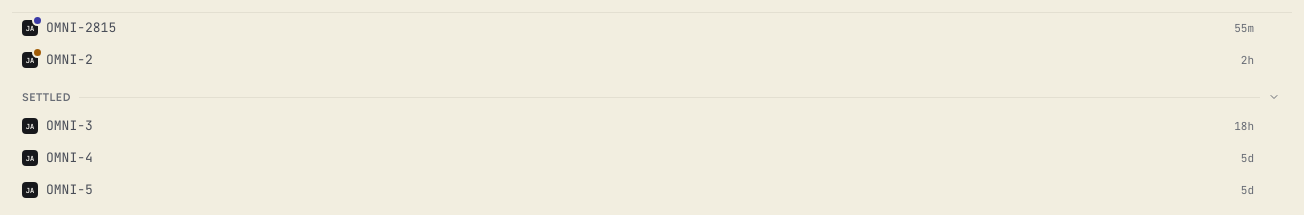
Test case: the sessions list › the hover card › moves to the next row with no wait while a card is open
The image size is (1304, 215).
Hover over the button "JA OMNI-2815 55m" at (81, 27), box [12, 13, 1266, 43]
Wait 120 ms
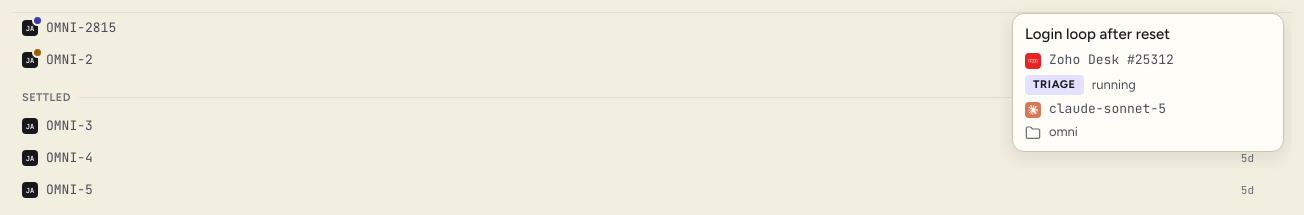
Check: the text with class "sd-session-card__title" reads "Login loop after reset", box [1025, 25, 1170, 43]
Hover over the button "JA OMNI-2 2h" at (69, 59), box [12, 45, 1266, 75]
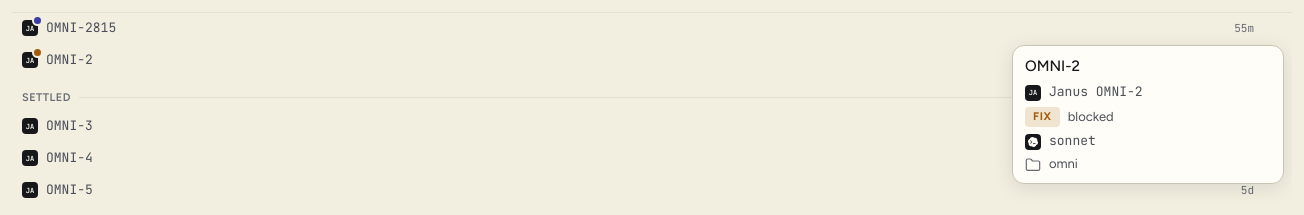
Check: the text with class "sd-session-card__title" reads "OMNI-2", box [1025, 57, 1080, 75]
